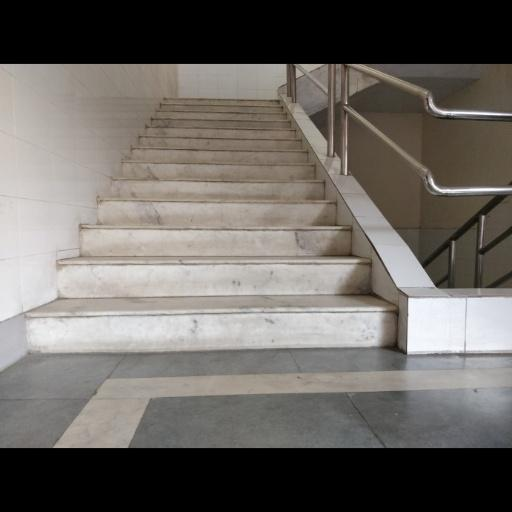stairs: (26, 99, 396, 352)
